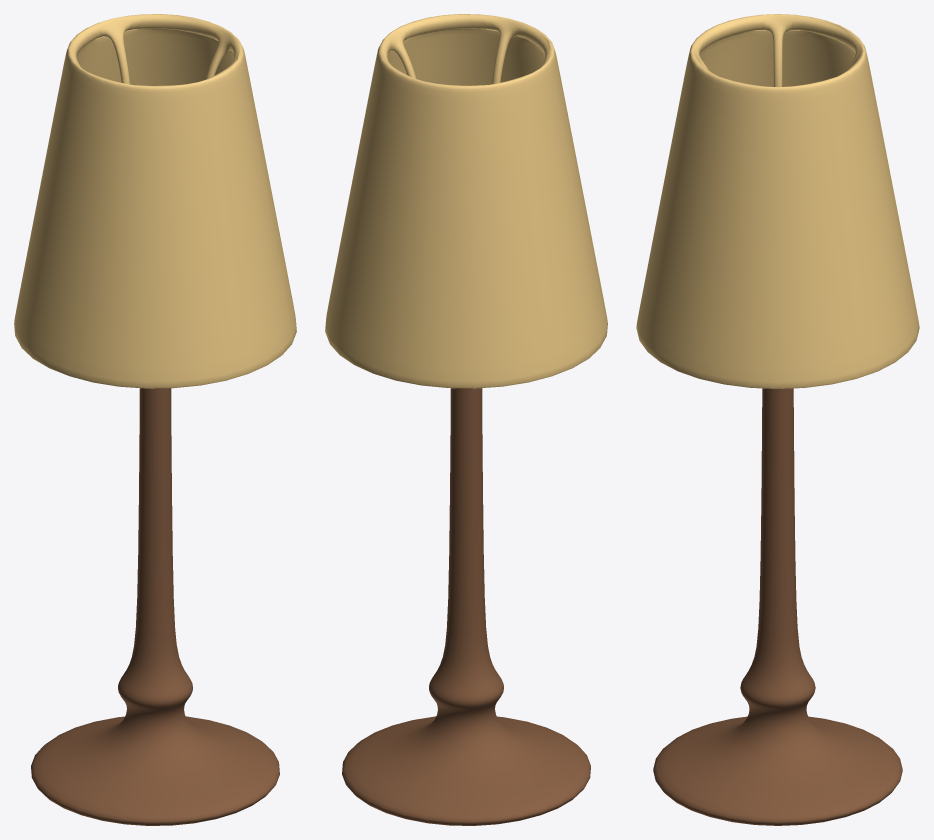
File: 029_tall_lamp.glb
3 views of the same model, side by side, from view 1: azimuth 30°, elevation 25°; view 2: azimuth 150°, elevation 25°; view 3: azimuth 270°, elevation 25° (orthographic).
Visible parts, largest first — view 1: head, foot; view 2: head, foot; view 3: head, foot.
Part boxes in pixels (x1,y1,x2,y2): head: [14, 14, 296, 388]; foot: [31, 388, 279, 825]; head: [325, 14, 607, 388]; foot: [342, 388, 590, 825]; head: [636, 14, 919, 388]; foot: [653, 388, 902, 825].
Bounding box in the file's own units: 0.7999 × 2.27 × 0.7999.
